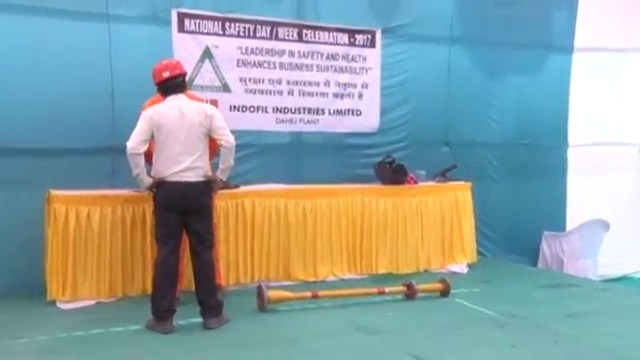helmet: (150, 58, 186, 84)
helmet_on: (149, 59, 187, 99)
person: (124, 57, 237, 332)
